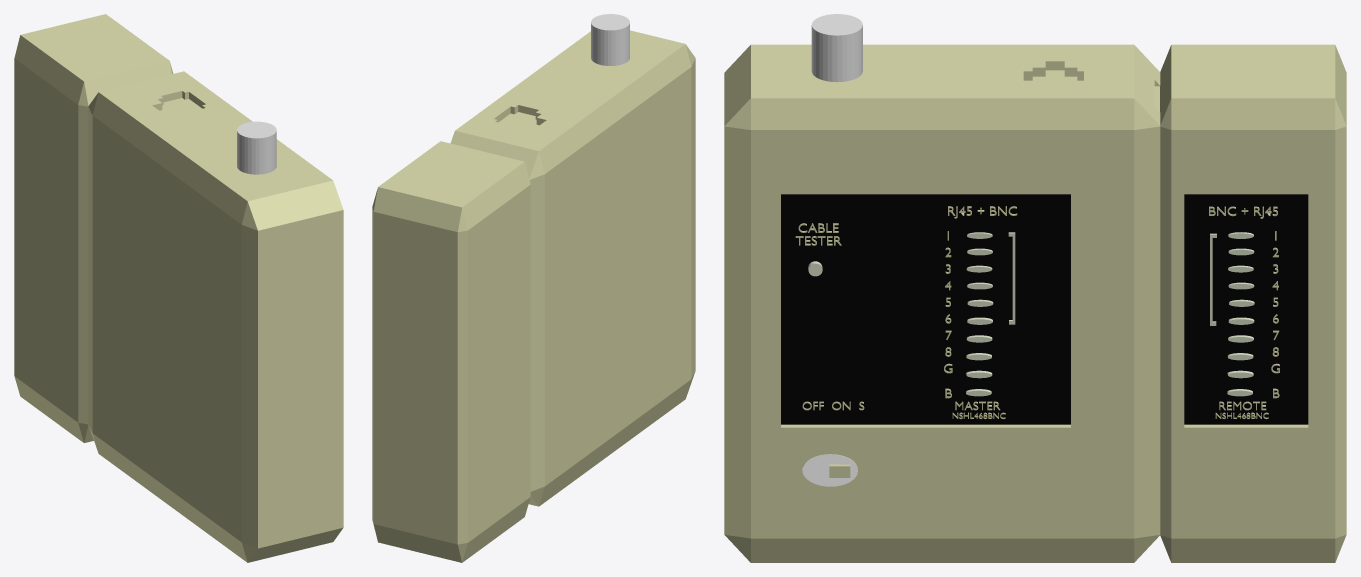
The model's file is cable tester.fbx.
3 renders of one model, left to right at view 1: azimuth 30°, elevation 25°; view 2: azimuth 150°, elevation 25°; view 3: azimuth 270°, elevation 25°, orthographic. The views are drawn at different scales.
Visible parts, largest first — view 1: Cube, Cylinder.001, Cylinder.002; view 2: Cube, Cylinder.001, Cylinder.002; view 3: Cube, Cylinder.001, Cylinder.002, Cylinder.
Part boxes in pixels (x1,y1,x2,y2): Cube: (88, 71, 343, 562); Cylinder.001: (14, 14, 173, 442); Cylinder.002: (237, 121, 276, 174); Cube: (450, 30, 695, 506); Cylinder.001: (372, 141, 530, 562); Cylinder.002: (591, 14, 629, 65); Cube: (724, 44, 1160, 562); Cylinder.001: (1154, 44, 1346, 562); Cylinder.002: (811, 14, 862, 82); Cylinder: (808, 232, 1253, 396).
Bounding box in the file's own units: 58.78 × 220 × 243.
